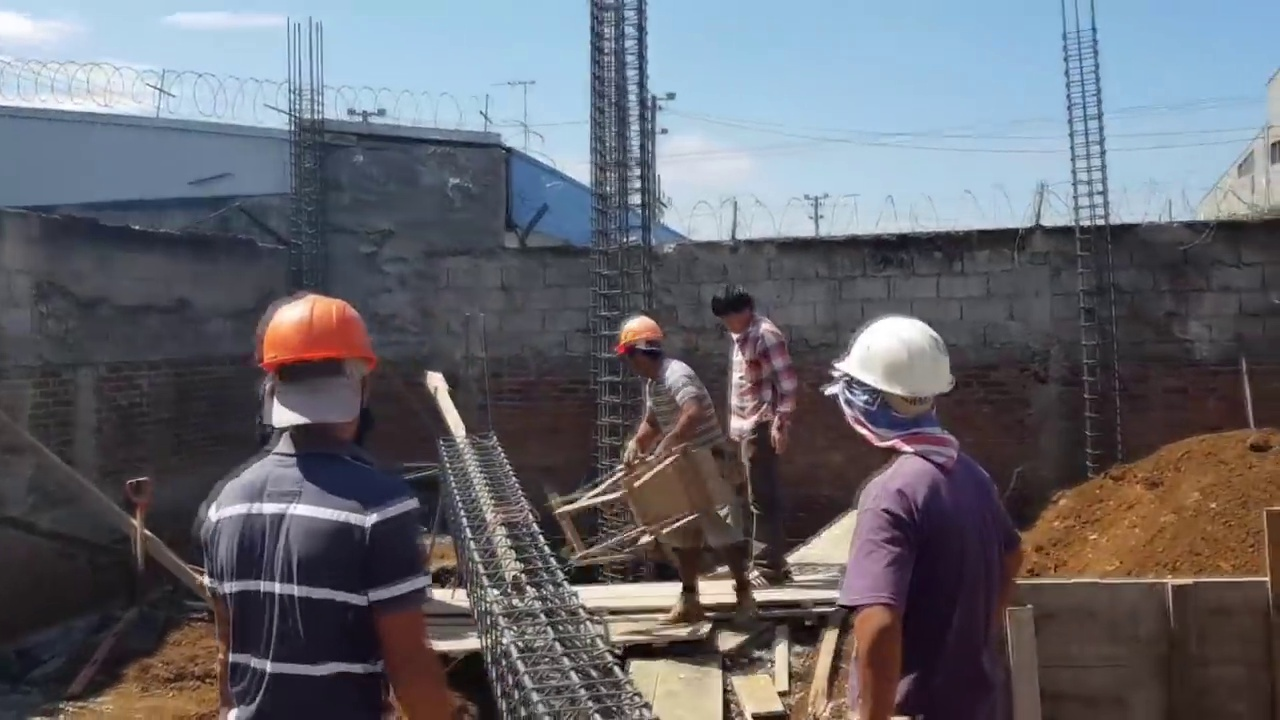helmet: (253, 298, 375, 385), (835, 318, 957, 405), (617, 317, 665, 364)
helmet-off: (713, 287, 762, 343)
helmet-on: (248, 288, 379, 465), (840, 307, 971, 467), (613, 318, 673, 383)
person: (191, 287, 451, 720), (831, 300, 1021, 720), (613, 317, 753, 626), (714, 287, 799, 581)
